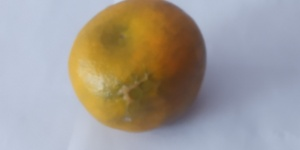BAD: (69, 1, 208, 133)
